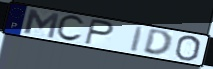C: (54, 15, 86, 43)
D: (141, 29, 173, 58)
I: (129, 25, 147, 54)
M: (23, 8, 62, 40)
O: (173, 35, 203, 62)
P: (83, 17, 115, 46)
